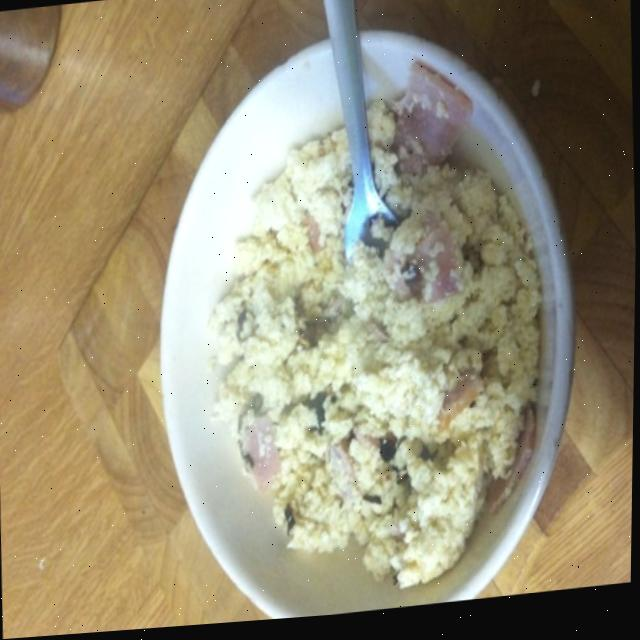鸡蛋料理: (159, 52, 568, 630)
